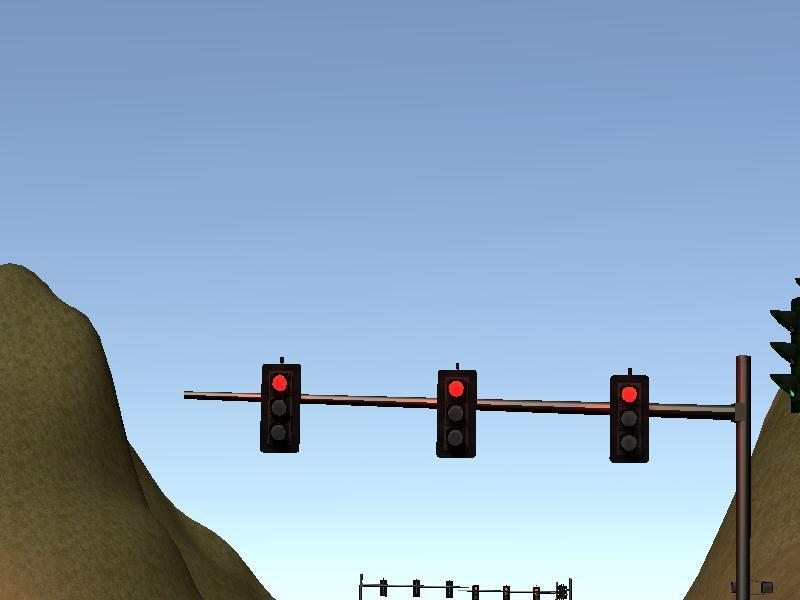Red: (261, 363, 300, 453), (437, 369, 476, 458), (609, 375, 648, 463)
